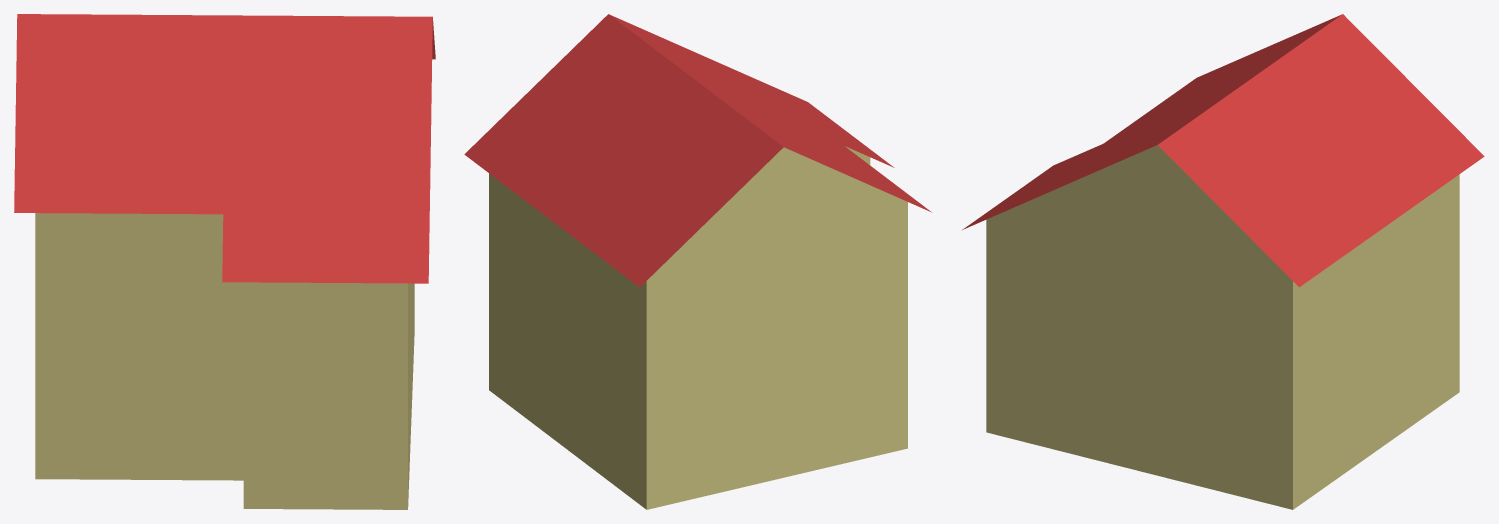
3 views of the same model, side by side, from view 1: azimuth 30°, elevation 25°; view 2: azimuth 150°, elevation 25°; view 3: azimuth 270°, elevation 25° (orthographic). The views are drawn at different scales.
Size of the model in its own units: 13.23 by 14.36 by 10.29.
